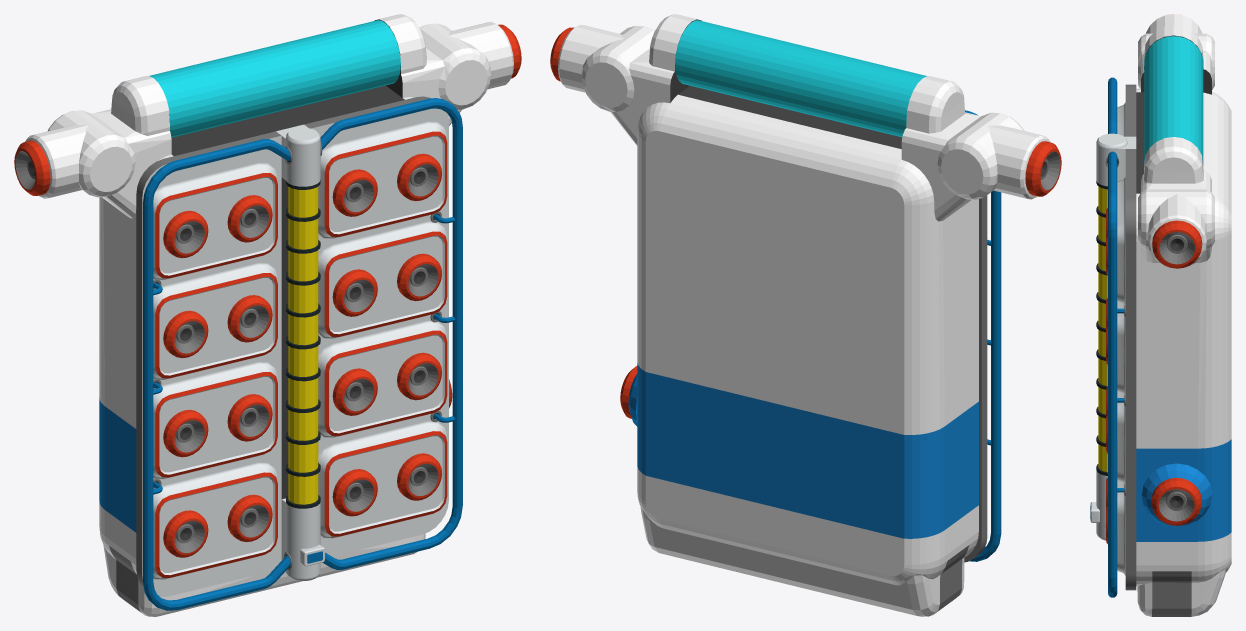
The model's file is backpack-pro-max.glb.
The picture shows the model from 3 angles, left to right: view 1: azimuth 30°, elevation 25°; view 2: azimuth 150°, elevation 25°; view 3: azimuth 270°, elevation 25°; orthographic projection. The views are drawn at different scales.
Parts seen in each view (by area): view 1: OriginalRearAndShoulders_6, OxygenGauge, SmoothFrontBase, Pad_1_1, Pad_1_2, RoundOuterRail_-1, Pad_1_0, Pad_1_3, RoundOuterRail_1, Pad_-1_0, Pad_-1_3, Pad_-1_1 (+52 smaller); view 2: OriginalRearAndShoulders_6, OriginalRearAndShoulders_0, OxygenGauge, RoundOuterRail_-1, SmoothFrontBaseSideEdge, OriginalRearAndShoulders_1, OriginalRearAndShoulders_5, OriginalRearAndShoulders_3; view 3: OriginalRearAndShoulders_6, OriginalRearAndShoulders_0, OxygenGauge, SmoothFrontBaseSideEdge, RoundOuterRail_1, OriginalRearAndShoulders_3, OriginalRearAndShoulders_5, OriginalRearAndShoulders_1, BatteryTopCasing, Pad_1_0, Pad_1_3, Pad_1_1 (+8 smaller).
Boxes of the visible parts, x1,y1,x2,y2 form: OriginalRearAndShoulders_6: [25, 14, 513, 616]; OxygenGauge: [149, 20, 400, 137]; SmoothFrontBase: [142, 108, 448, 596]; Pad_1_1: [318, 221, 447, 338]; Pad_1_2: [318, 320, 447, 437]; RoundOuterRail_-1: [143, 139, 290, 610]; Pad_1_0: [318, 121, 447, 238]; Pad_1_3: [318, 421, 447, 538]; RoundOuterRail_1: [320, 98, 462, 569]; Pad_-1_0: [153, 162, 277, 280]; Pad_-1_3: [153, 462, 277, 579]; Pad_-1_1: [153, 262, 277, 380]; OriginalRearAndShoulders_6: [558, 14, 1050, 616]; OriginalRearAndShoulders_0: [628, 363, 978, 538]; OxygenGauge: [675, 20, 926, 137]; RoundOuterRail_-1: [965, 110, 1001, 561]; SmoothFrontBaseSideEdge: [964, 195, 987, 562]; OriginalRearAndShoulders_1: [670, 19, 1047, 176]; OriginalRearAndShoulders_5: [550, 27, 1061, 418]; OriginalRearAndShoulders_3: [936, 151, 1060, 612]; OriginalRearAndShoulders_6: [1136, 14, 1231, 616]; OriginalRearAndShoulders_0: [1136, 439, 1231, 541]; OxygenGauge: [1144, 36, 1203, 165]; SmoothFrontBaseSideEdge: [1125, 84, 1136, 590]; RoundOuterRail_1: [1108, 151, 1117, 597]; OriginalRearAndShoulders_3: [1152, 232, 1194, 616]; OriginalRearAndShoulders_5: [1151, 14, 1202, 525]; OriginalRearAndShoulders_1: [1136, 35, 1211, 508]; BatteryTopCasing: [1096, 133, 1136, 186]; Pad_1_0: [1117, 177, 1125, 305]; Pad_1_3: [1117, 480, 1125, 575]; Pad_1_1: [1117, 301, 1125, 395].
Size of the model in its own units: 1.67 by 1.72 by 0.4658.
